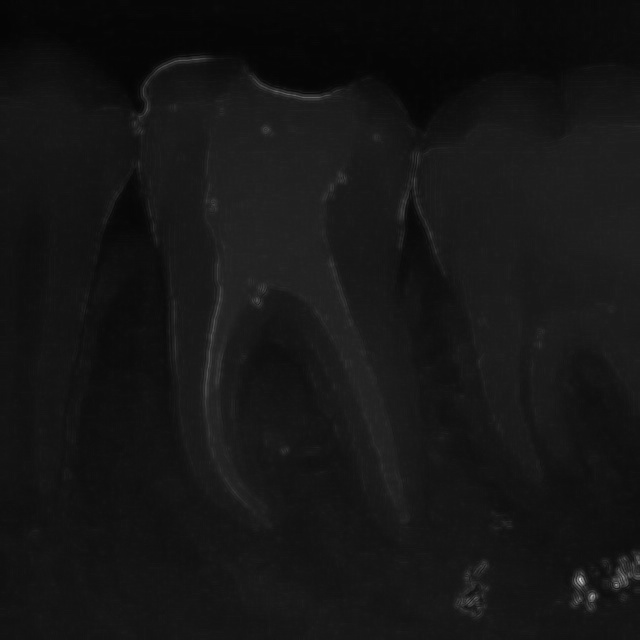Class 0- No endodontic treatment: (119, 54, 482, 577)
